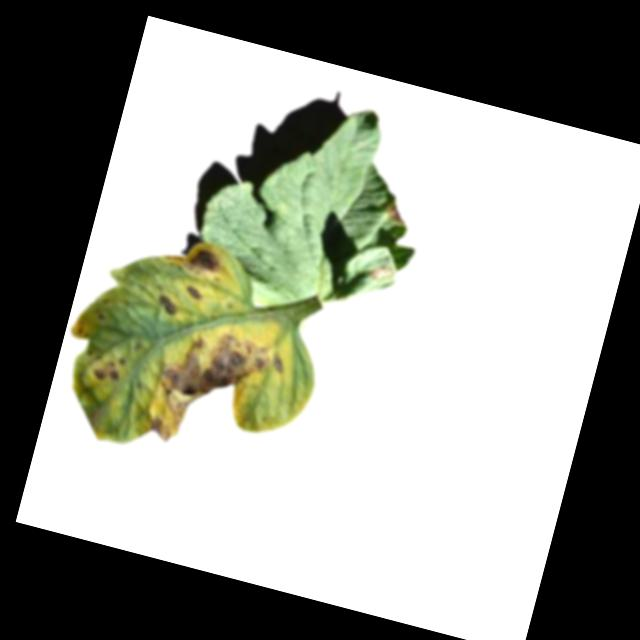Early_blight: (139, 314, 292, 466), (180, 242, 225, 277), (92, 350, 127, 385), (381, 199, 410, 226), (366, 259, 396, 283), (155, 289, 179, 315), (183, 279, 203, 299)
